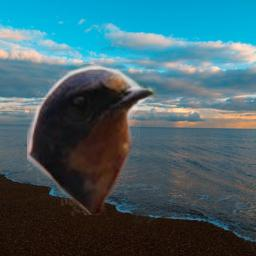Swallow: (27, 64, 157, 215)
